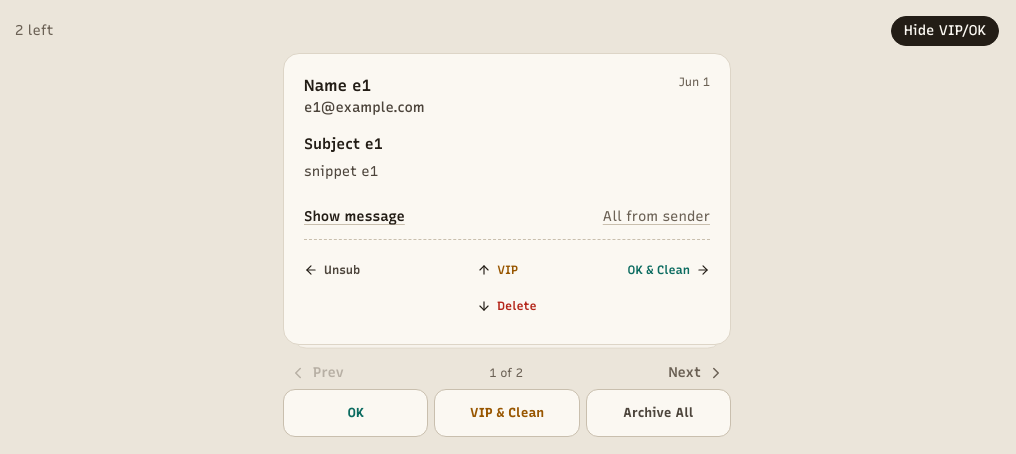
Scenario: touch tablet (iPad portrait) layout › the result of an action is stamped next to its message
Click the button "OK".
click(356, 413)  # box top-left (283, 389), bottom-right (428, 437)
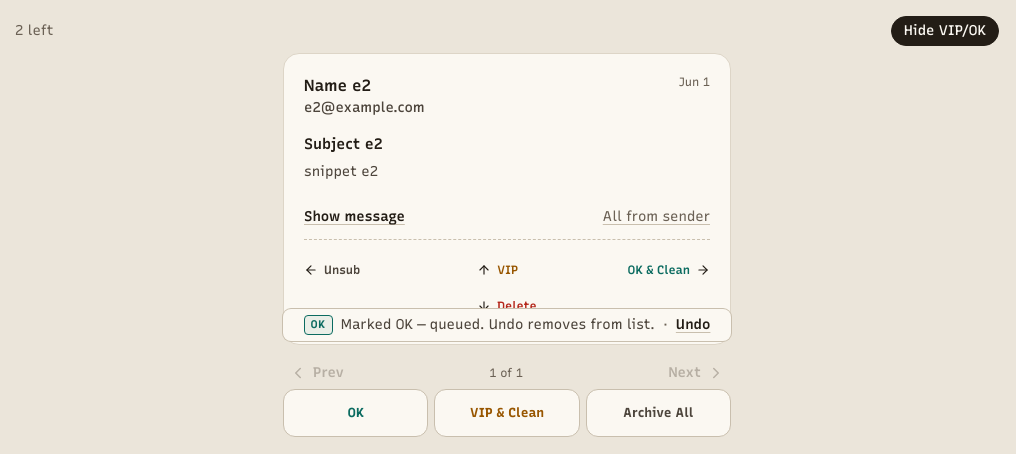
Check: the text "OK" is shown, box top-left (304, 315), bottom-right (333, 335)
